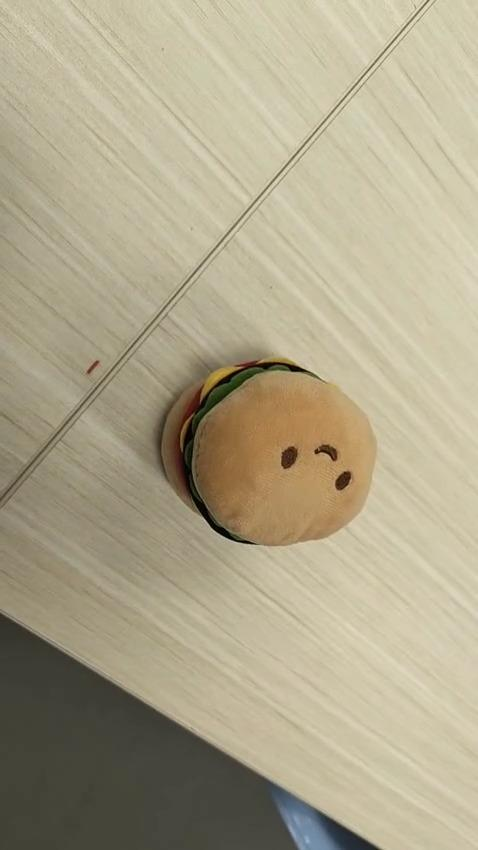hamburger: (159, 355, 377, 547)
